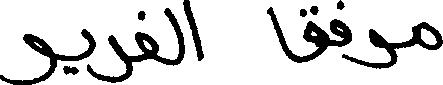X: (267, 1, 325, 67), (0, 29, 54, 84), (102, 30, 131, 84), (369, 24, 395, 73), (166, 0, 183, 70), (185, 0, 203, 65), (331, 0, 349, 64), (137, 6, 156, 66), (413, 17, 442, 54), (82, 24, 94, 81)
